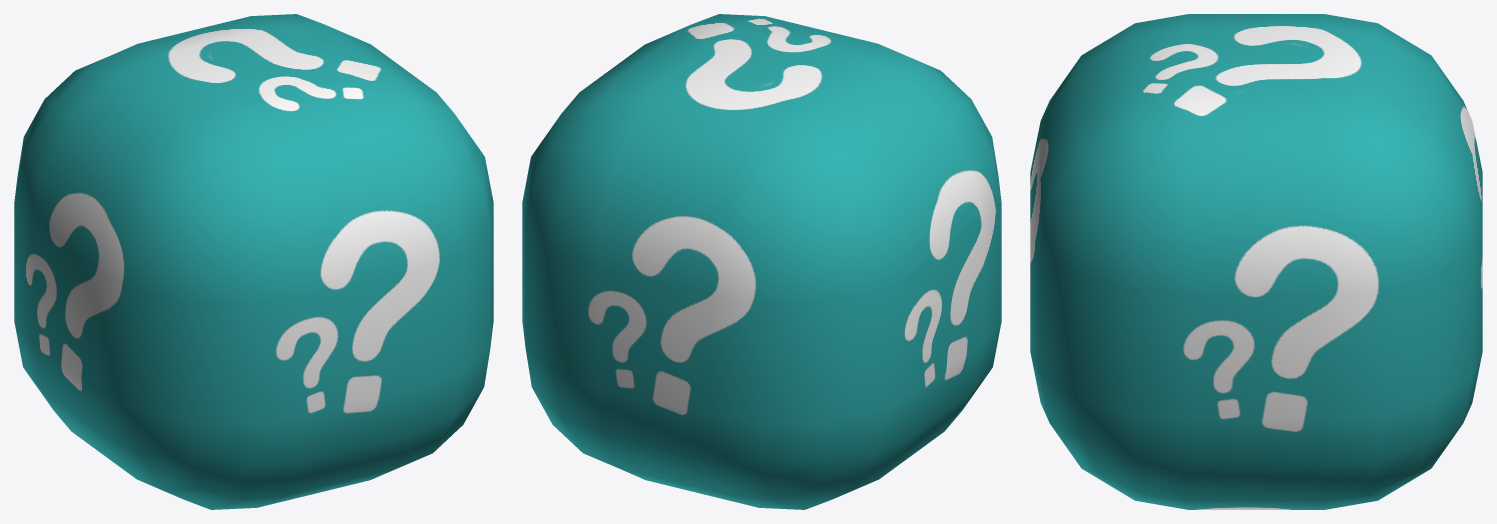
File: MYSTERY_BOX.glb
The picture shows the model from 3 angles, left to right: view 1: azimuth 30°, elevation 25°; view 2: azimuth 150°, elevation 25°; view 3: azimuth 270°, elevation 25°; orthographic projection. The views are drawn at different scales.
Visible parts, largest first — view 1: [OBJ] Mystery Box; view 2: [OBJ] Mystery Box; view 3: [OBJ] Mystery Box.
Boxes of the visible parts, bbox=[...] form: [OBJ] Mystery Box: bbox=[14, 14, 493, 509]; [OBJ] Mystery Box: bbox=[522, 14, 1001, 509]; [OBJ] Mystery Box: bbox=[1030, 14, 1482, 509].
Size of the model in its own units: 1 by 1 by 1.
Materials: 1 (1 with a texture image).
